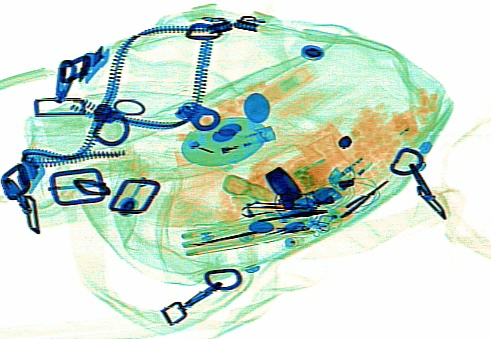lighter: (172, 124, 275, 167), (325, 147, 372, 192)
